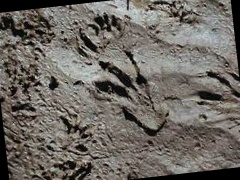rat: (46, 42, 103, 90), (56, 107, 101, 154)
